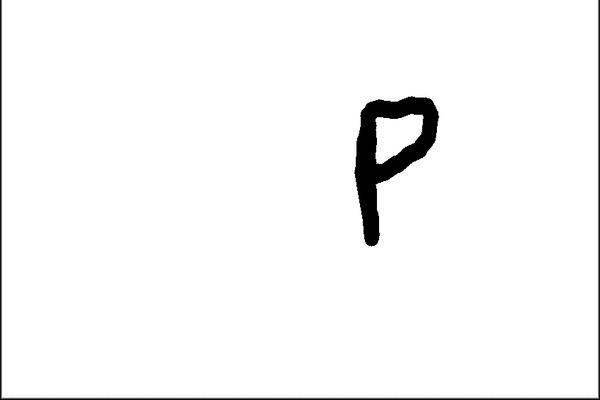P: (344, 87, 443, 251)
